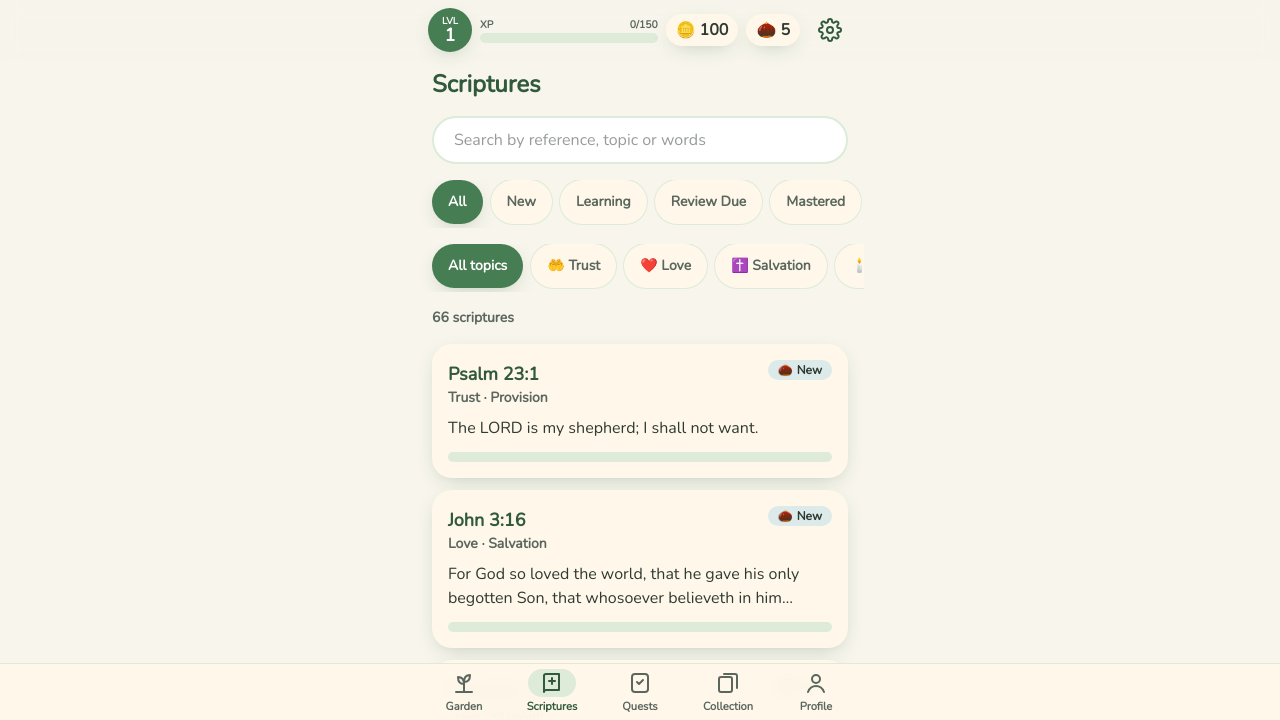
it: Scripture library screen › lists all scriptures and searches by reference
Expected: the text "66 scriptures" is shown, [432,308,514,327]
Step 1. Type "John 3:16" into the search field named "Search scriptures" → [640, 140], box [432,116,848,164]
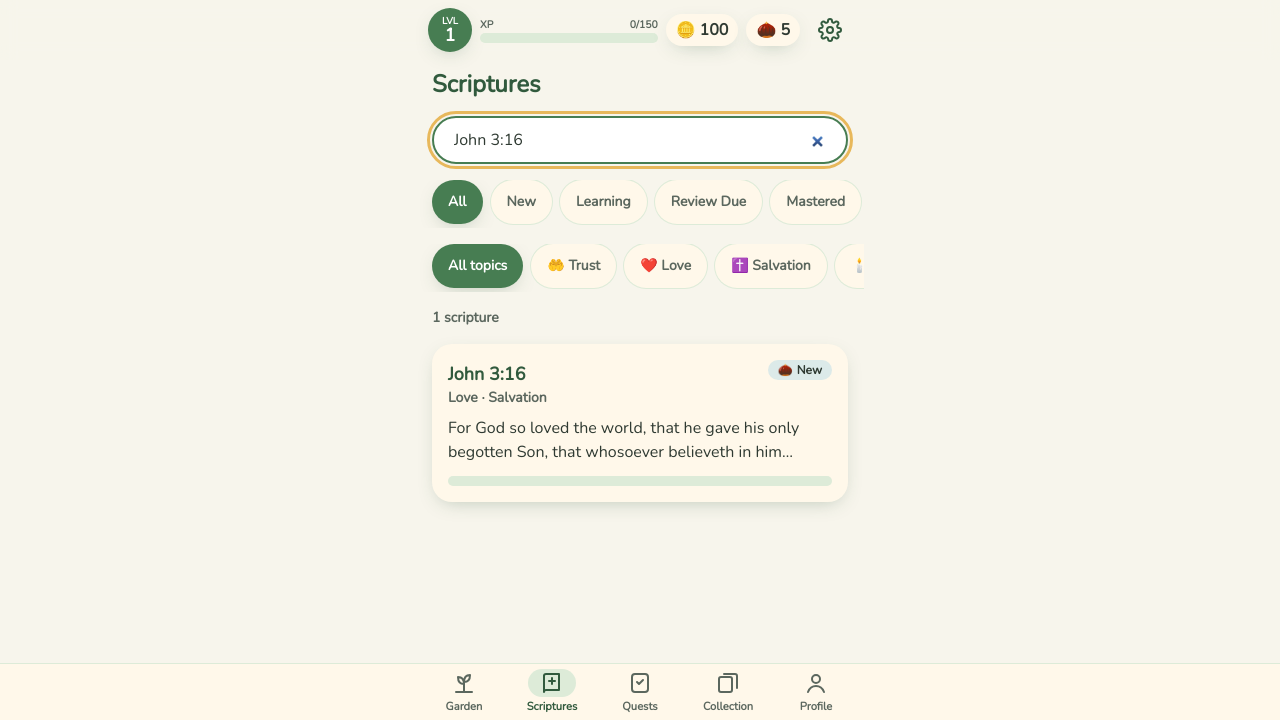
Expected: the heading "John 3:16" is shown, [448,362,525,386]
Now the text "1 scripture" is shown, box [432,308,499,327]
